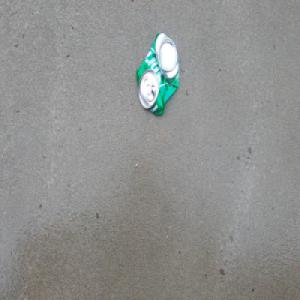SodaCan: (135, 30, 181, 118)
